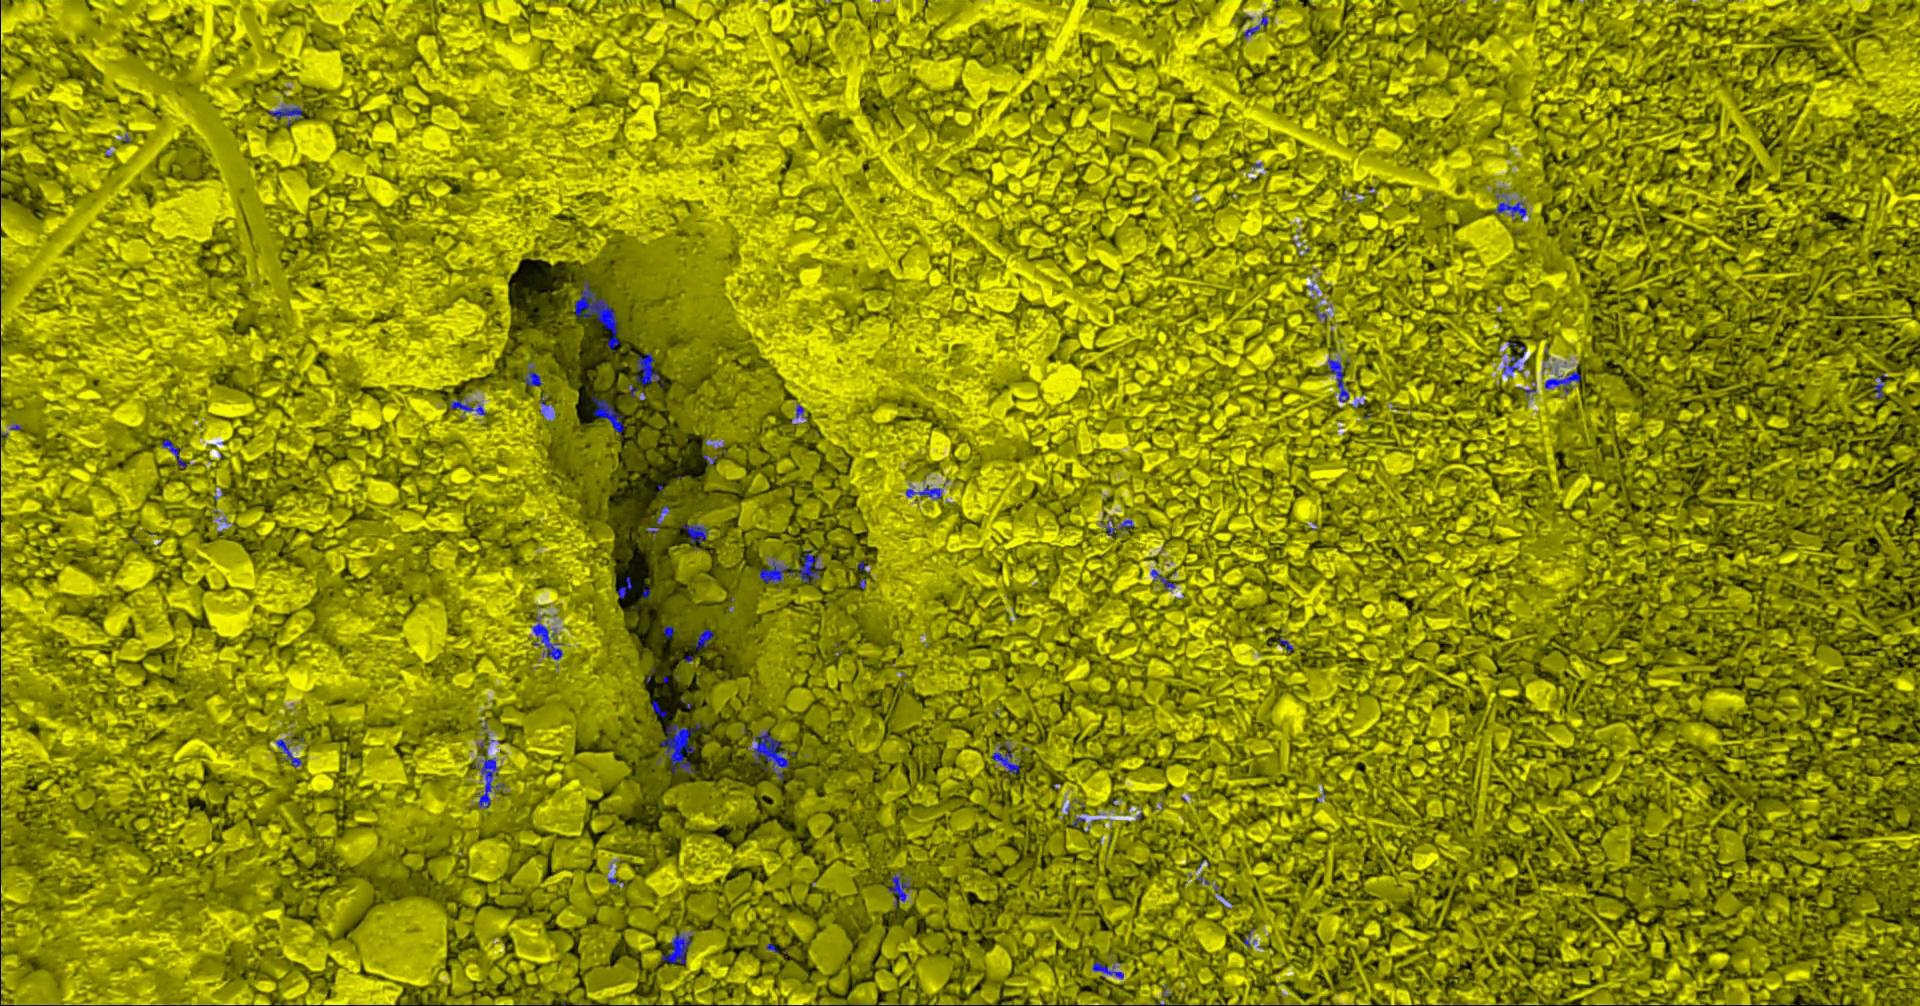ant: (573, 279, 618, 349), (750, 730, 797, 780), (758, 549, 819, 583), (659, 721, 698, 774), (472, 757, 504, 808), (531, 615, 563, 659), (590, 395, 623, 437), (635, 352, 663, 387), (660, 932, 691, 964), (1327, 357, 1349, 401), (990, 743, 1020, 775), (888, 871, 912, 907), (160, 439, 189, 469), (1502, 340, 1525, 376), (1544, 370, 1580, 392), (1493, 198, 1526, 220), (276, 739, 302, 766), (267, 107, 302, 126), (681, 523, 707, 547), (1100, 516, 1133, 535), (648, 506, 669, 533), (1091, 960, 1123, 978), (450, 400, 485, 415), (905, 484, 941, 499), (1243, 15, 1267, 37), (1150, 569, 1175, 589), (691, 627, 712, 649), (524, 361, 541, 385), (616, 575, 632, 598), (1873, 372, 1884, 399), (650, 700, 665, 716), (662, 625, 674, 638)
